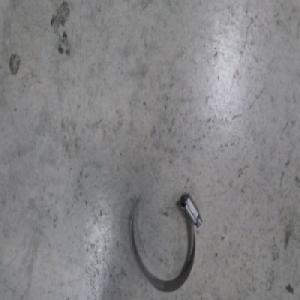AdjustableClamp: (127, 193, 201, 291)
